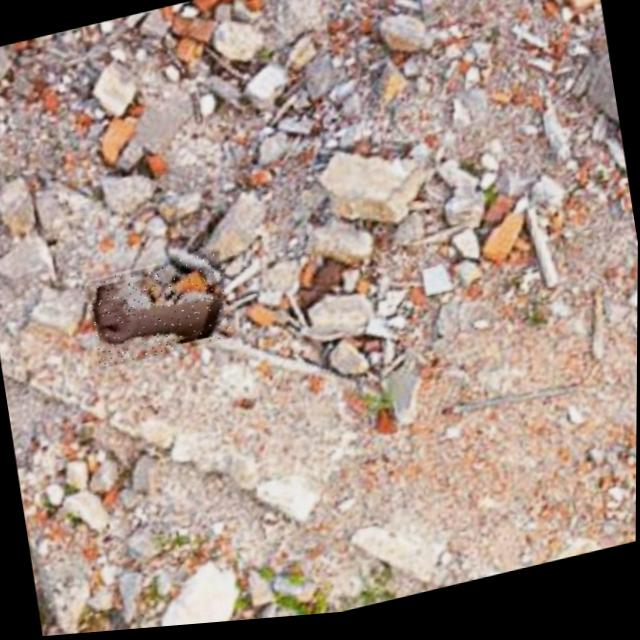Person in Rubble: (85, 254, 232, 372)
